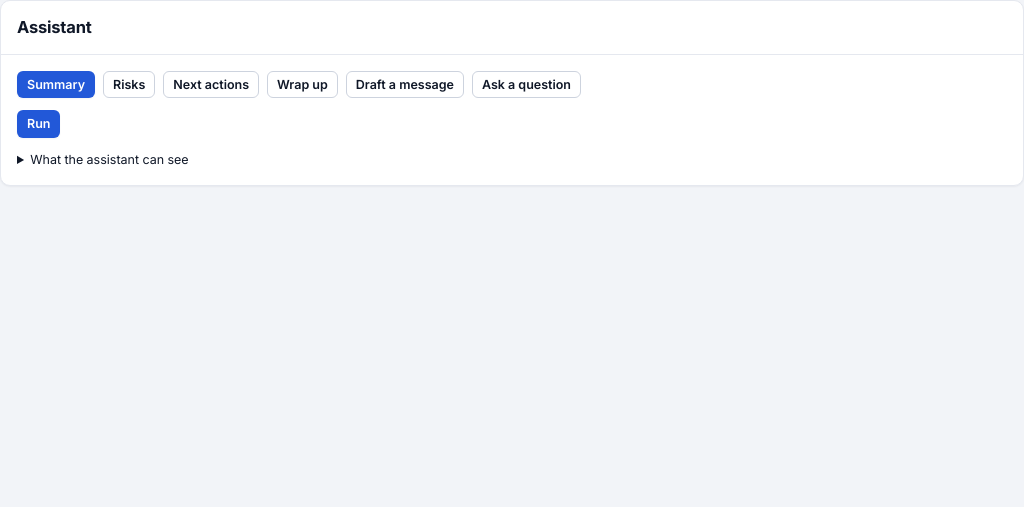
AssistPanel › shows the disclosures that qualify an answer
The width and height of the screenshot is (1024, 507).
Click the button "Run" at (39, 124), box [17,110,60,138]
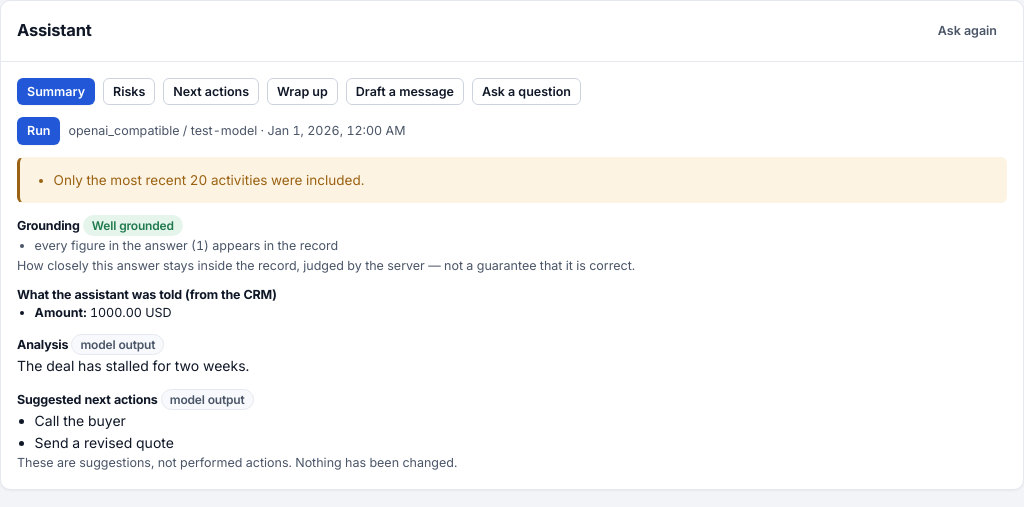
Check: the list item "Only the most recent 20 activities were included." is shown, box [54,172,364,188]
